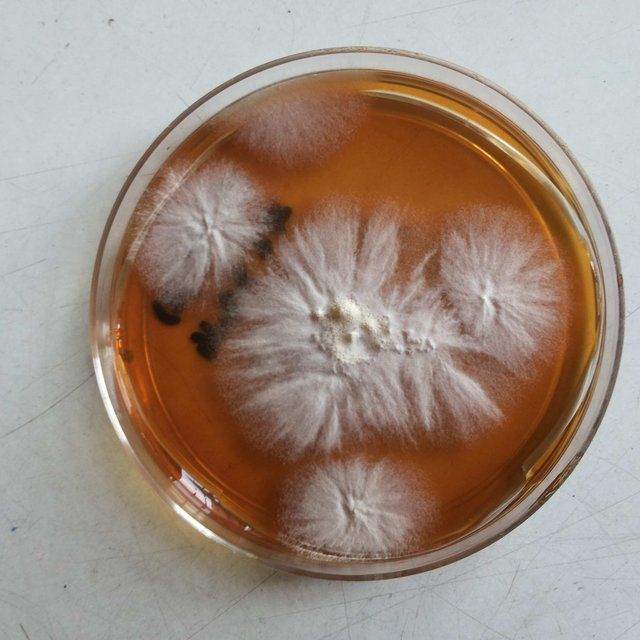Trichophyton: (278, 246, 469, 429), (144, 175, 261, 286), (285, 460, 409, 541), (259, 97, 355, 159)
